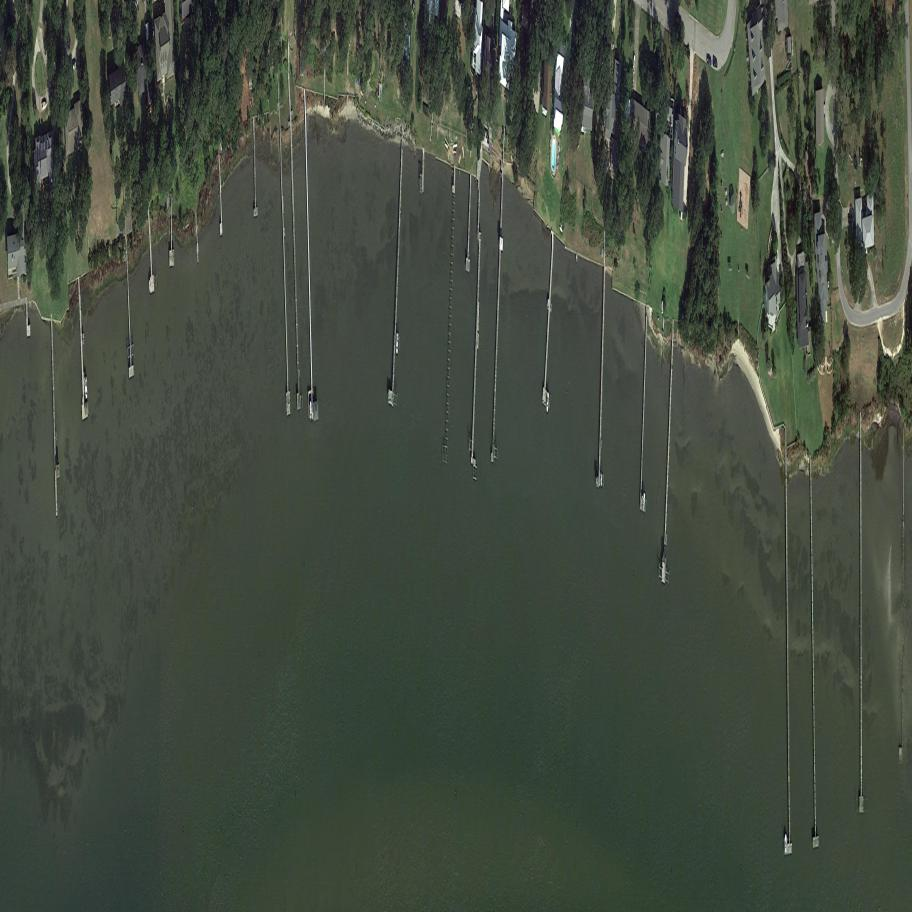ship: (632, 53, 636, 78), (84, 376, 88, 400), (784, 833, 788, 857), (546, 392, 550, 414), (642, 492, 646, 512), (396, 333, 399, 356), (309, 401, 312, 421), (82, 333, 85, 349), (600, 472, 603, 488), (148, 280, 151, 295), (661, 301, 663, 315)
small-vehicle: (712, 57, 718, 70), (706, 56, 712, 67), (72, 60, 76, 72)
